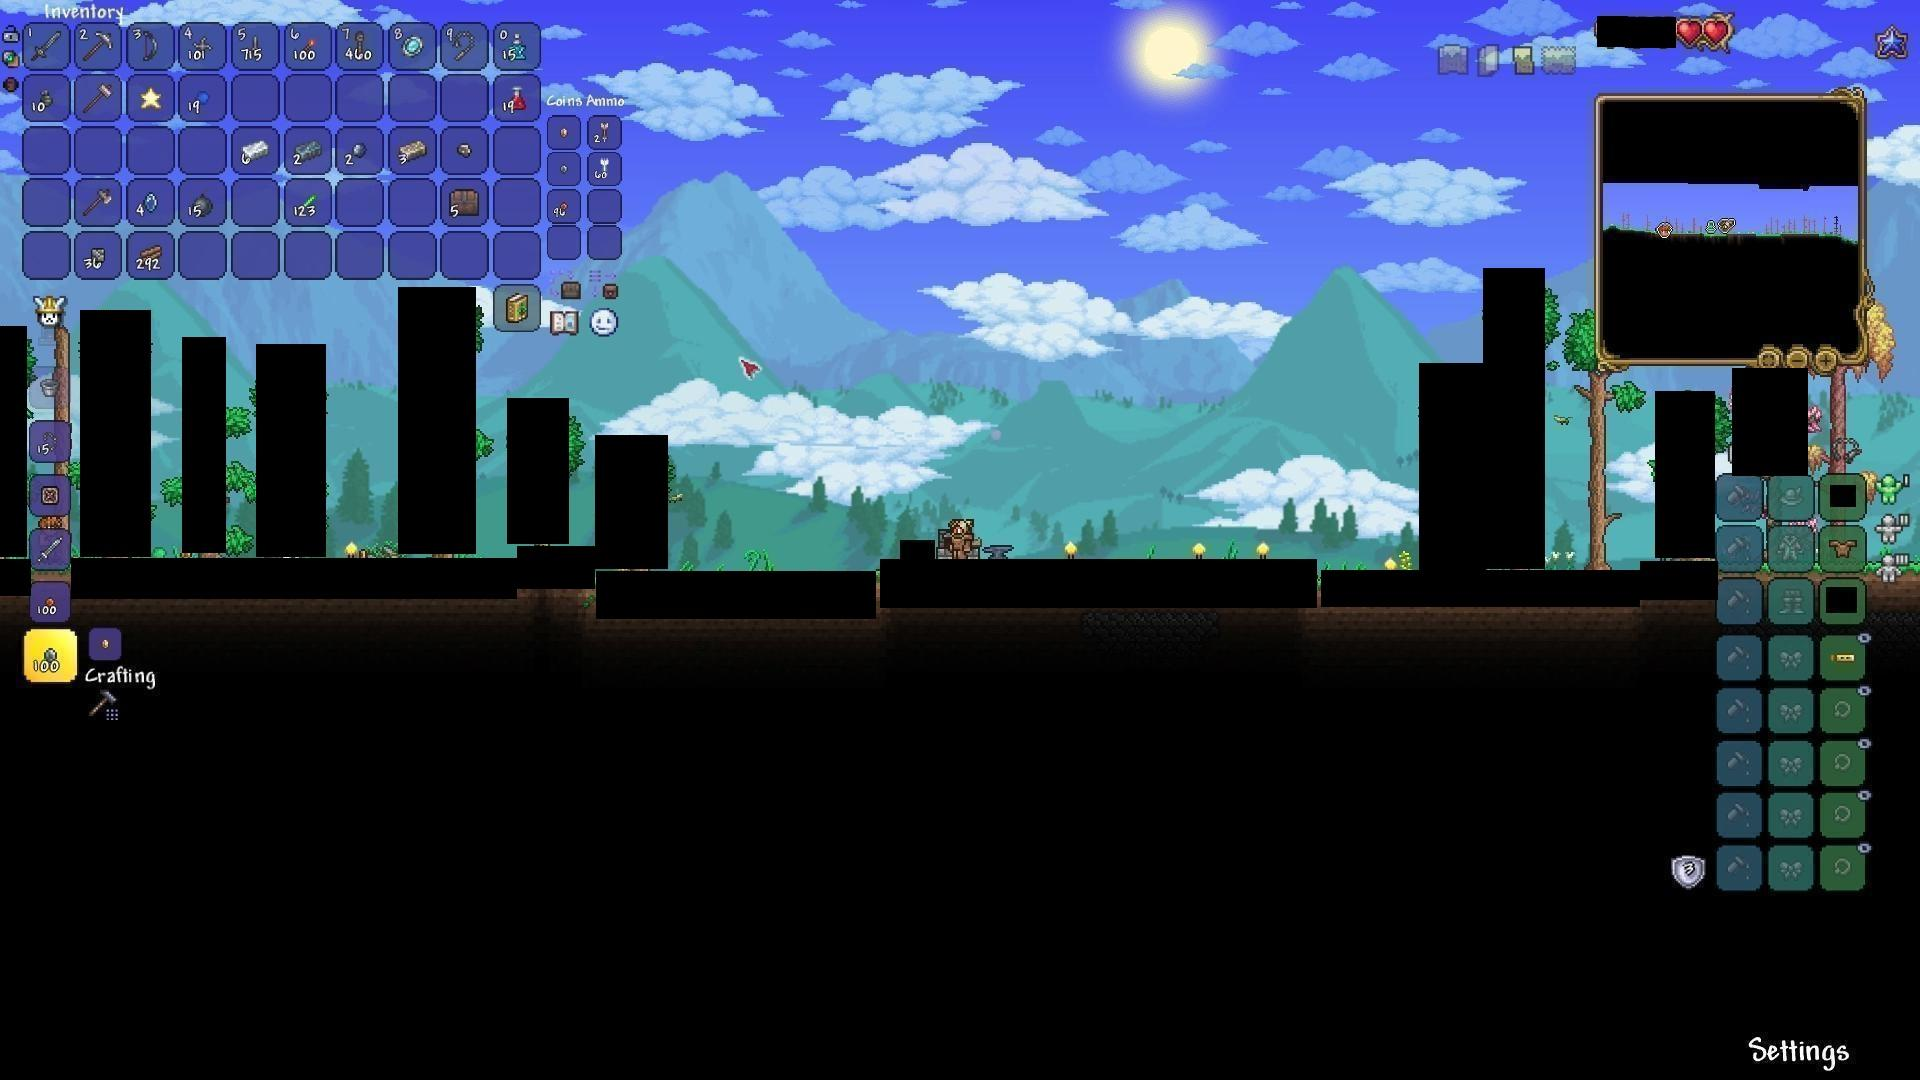breastplate: (1829, 538, 1859, 559)
heart: (1702, 16, 1731, 47), (1676, 16, 1702, 47)
tree: (1565, 328, 1625, 568)
wood: (135, 240, 165, 268)
